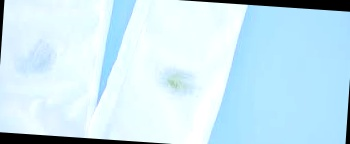earth: (25, 44, 58, 70), (160, 68, 190, 93)
